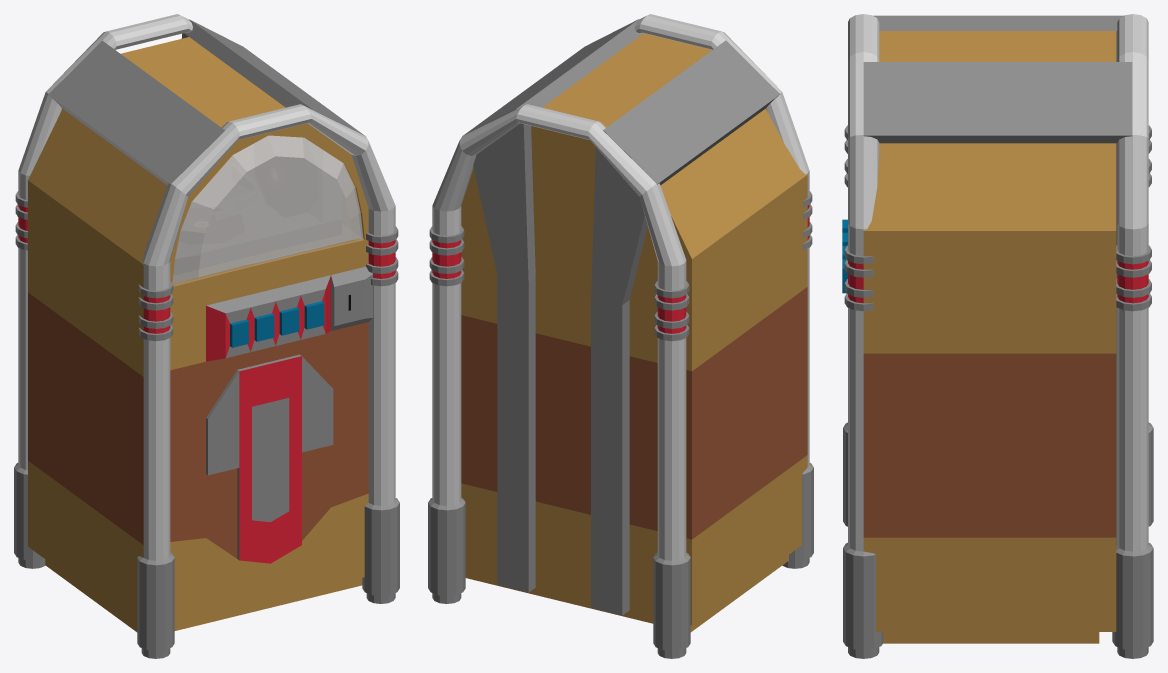
The model's file is Jukebox.fbx.
The picture shows the model from 3 angles, left to right: view 1: azimuth 30°, elevation 25°; view 2: azimuth 150°, elevation 25°; view 3: azimuth 270°, elevation 25°; orthographic projection. The views are drawn at different scales.
Parts seen in each view (by area): view 1: Jukebox; view 2: Jukebox; view 3: Jukebox.
Boxes of the visible parts, left/top/right/bottom form: Jukebox: left=14, top=14, right=399, bottom=658; Jukebox: left=428, top=14, right=813, bottom=658; Jukebox: left=842, top=14, right=1153, bottom=658.
Bounding box in the file's own units: 2060 × 3906 × 1969.
